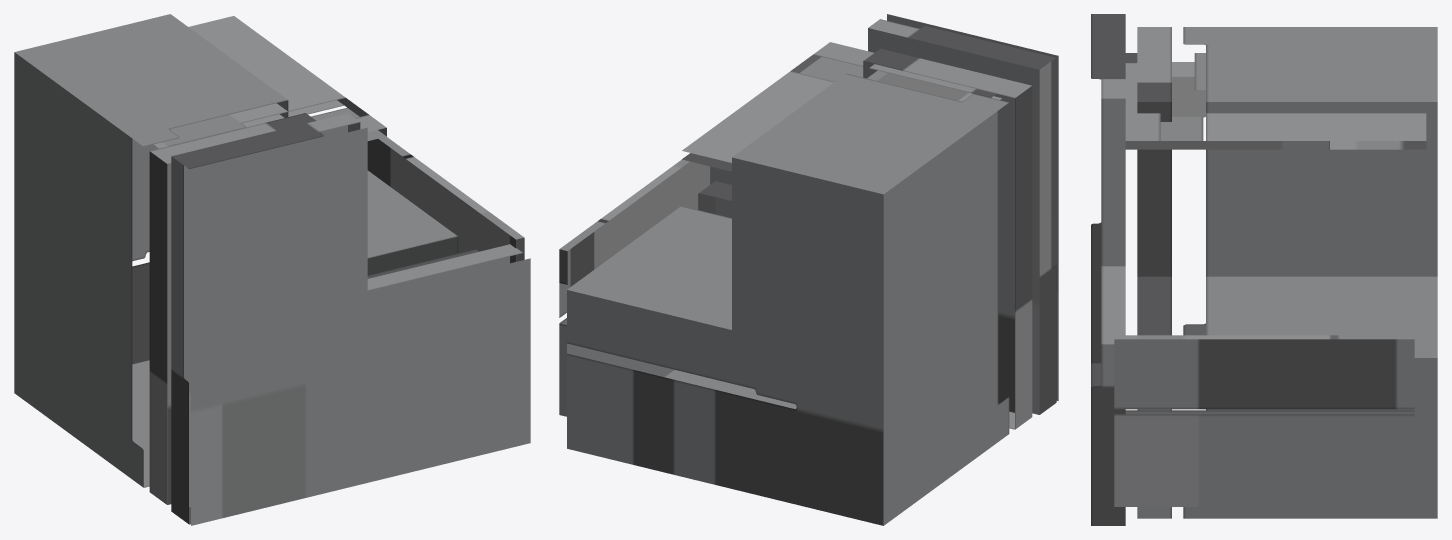
3 views of the same model, side by side, from view 1: azimuth 30°, elevation 25°; view 2: azimuth 150°, elevation 25°; view 3: azimuth 270°, elevation 25° (orthographic). The views are drawn at different scales.
Size of the model in its own units: 1.02 by 1 by 0.91.
